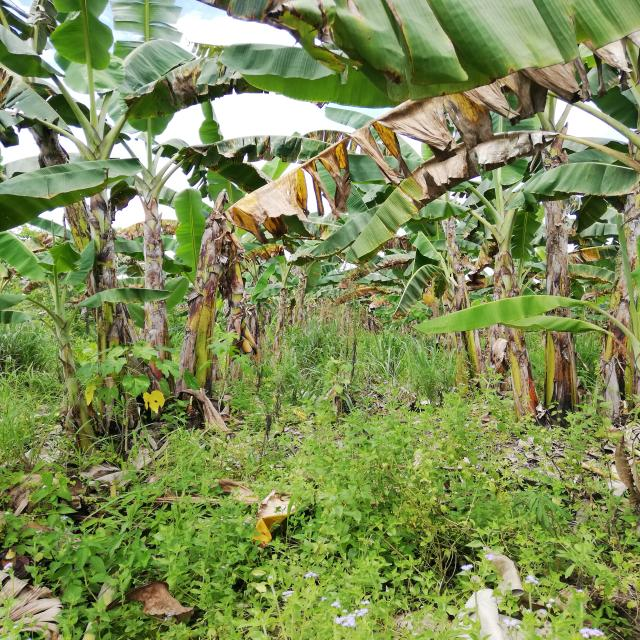Banana-plant: (176, 201, 255, 427), (469, 188, 527, 430), (535, 140, 581, 411), (138, 132, 174, 440), (484, 186, 491, 195)
